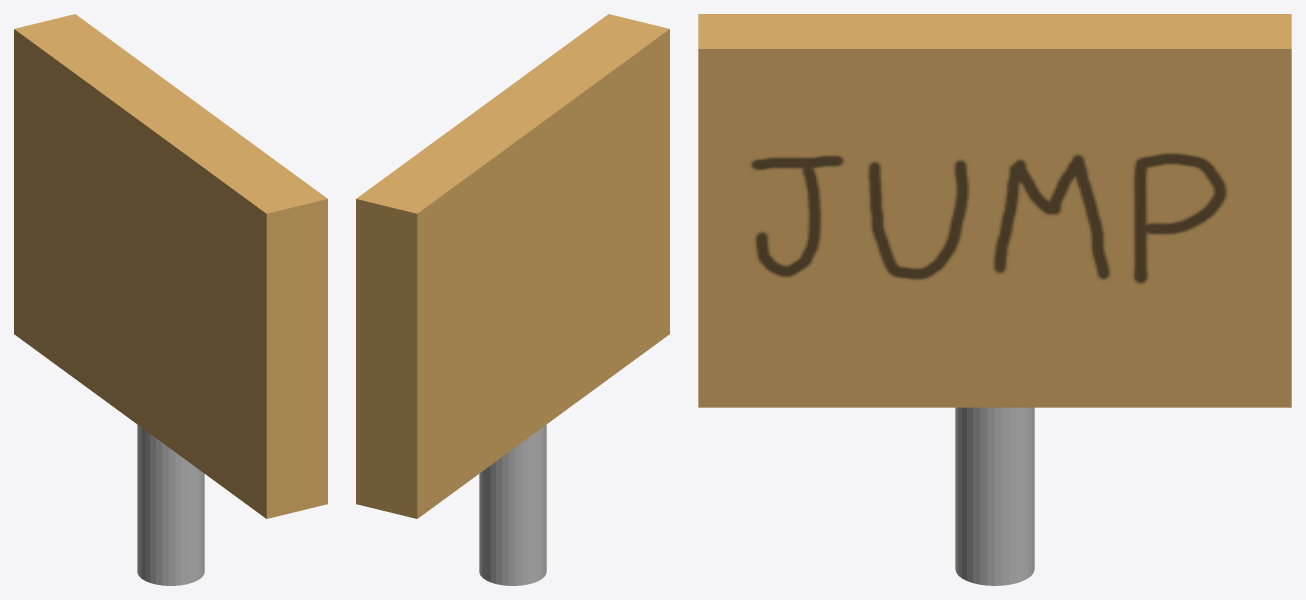
The model's file is Sign1.fbx.
3 renders of one model, left to right at view 1: azimuth 30°, elevation 25°; view 2: azimuth 150°, elevation 25°; view 3: azimuth 270°, elevation 25°, orthographic. The views are drawn at different scales.
Visible parts, largest first — view 1: Cube, Cylinder; view 2: Cube, Cylinder; view 3: Cube, Cylinder.
Part boxes in pixels (x1,y1,x2,y2): Cube: (14, 14, 327, 518); Cylinder: (137, 424, 204, 585); Cube: (356, 14, 669, 518); Cylinder: (479, 424, 546, 585); Cube: (698, 14, 1291, 407); Cylinder: (955, 407, 1034, 585).
Bounding box in the file's own units: 42 × 300 × 300.
